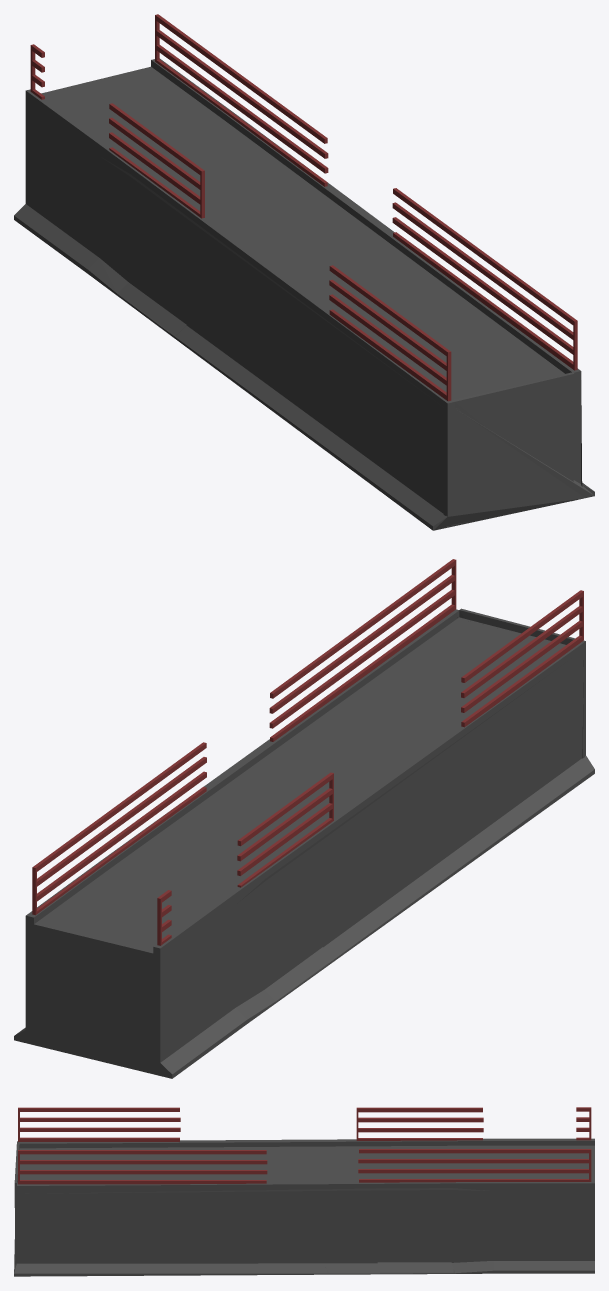
Rendered from Level3 Conveyor_seperated.fbx.
3 views of the same model, one above another, from view 1: azimuth 30°, elevation 25°; view 2: azimuth 150°, elevation 25°; view 3: azimuth 270°, elevation 25° (orthographic). The views are drawn at different scales.
Visible parts, largest first — view 1: polySurface131, polySurface133, polySurface135, polySurface132, polySurface134; view 2: polySurface131, polySurface133, polySurface135, polySurface132, polySurface134; view 3: polySurface131, polySurface133, polySurface135, polySurface132, polySurface134, polySurface136.
Boxes of the visible parts, x1=… form: polySurface131: x1=14, y1=58, x2=594, y2=530; polySurface133: x1=392, y1=188, x2=577, y2=370; polySurface135: x1=155, y1=14, x2=328, y2=186; polySurface132: x1=329, y1=265, x2=451, y2=401; polySurface134: x1=109, y1=103, x2=204, y2=218; polySurface131: x1=14, y1=608, x2=594, y2=1078; polySurface133: x1=269, y1=559, x2=456, y2=741; polySurface135: x1=32, y1=742, x2=206, y2=915; polySurface132: x1=461, y1=590, x2=583, y2=727; polySurface134: x1=237, y1=772, x2=333, y2=887; polySurface131: x1=14, y1=1138, x2=594, y2=1276; polySurface133: x1=18, y1=1150, x2=267, y2=1184; polySurface135: x1=358, y1=1149, x2=591, y2=1182; polySurface132: x1=18, y1=1107, x2=180, y2=1141; polySurface134: x1=356, y1=1107, x2=483, y2=1140; polySurface136: x1=576, y1=1107, x2=591, y2=1140.
Bounding box in the file's own units: 8.09 × 8.74 × 37.85.
